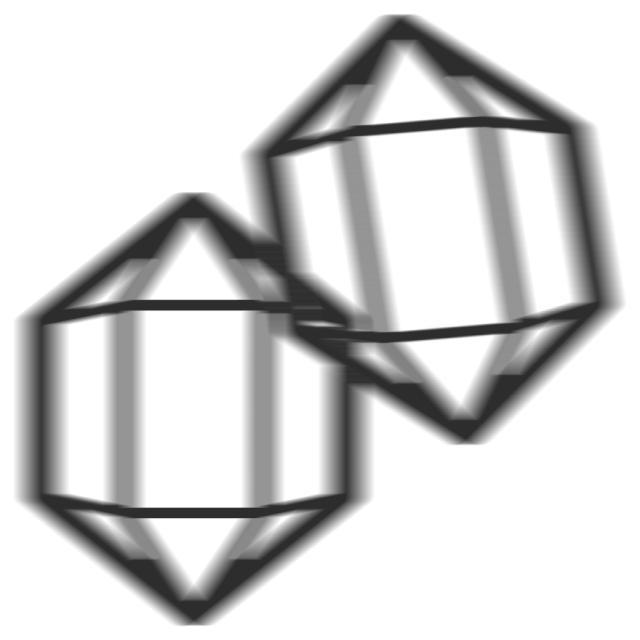crystal: (231, 8, 638, 457), (7, 190, 382, 636)
